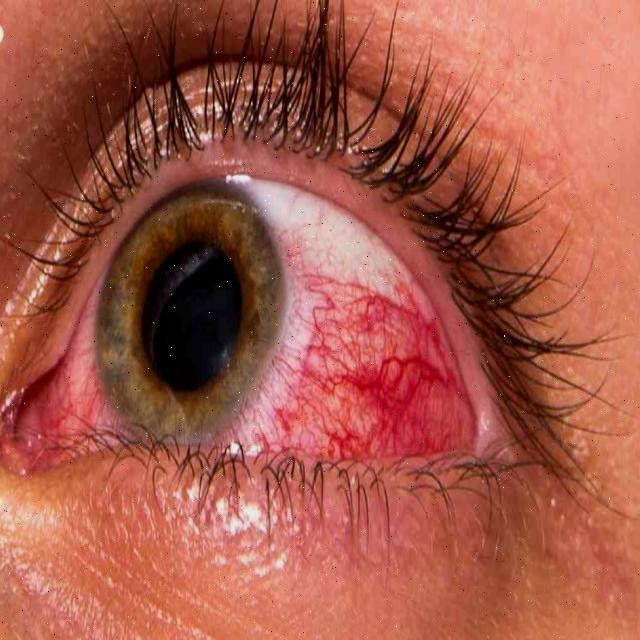Conjunctivitis: (12, 266, 503, 474)
